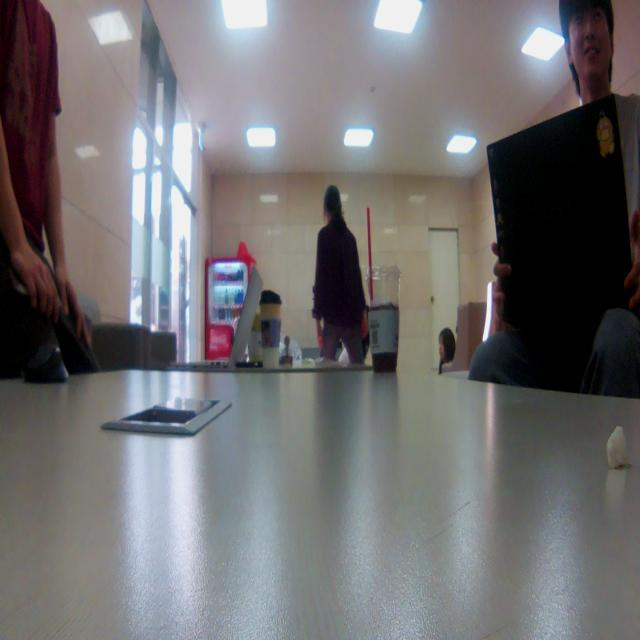target: (279, 333, 293, 369)
